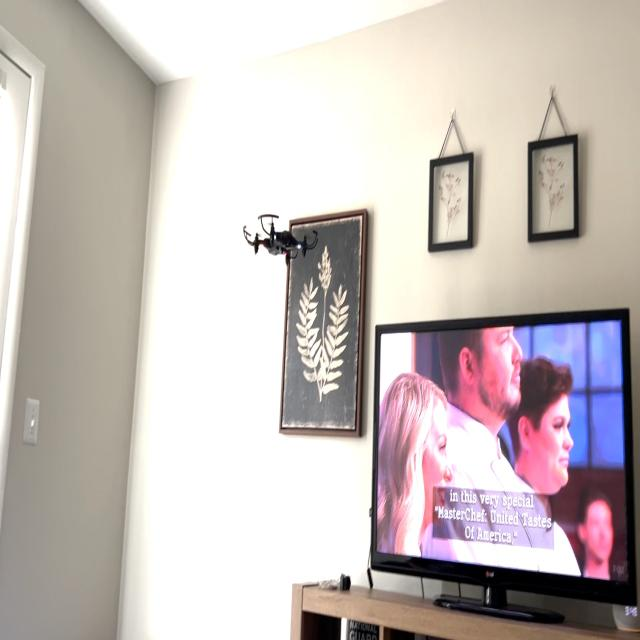drone: (229, 187, 336, 287)
